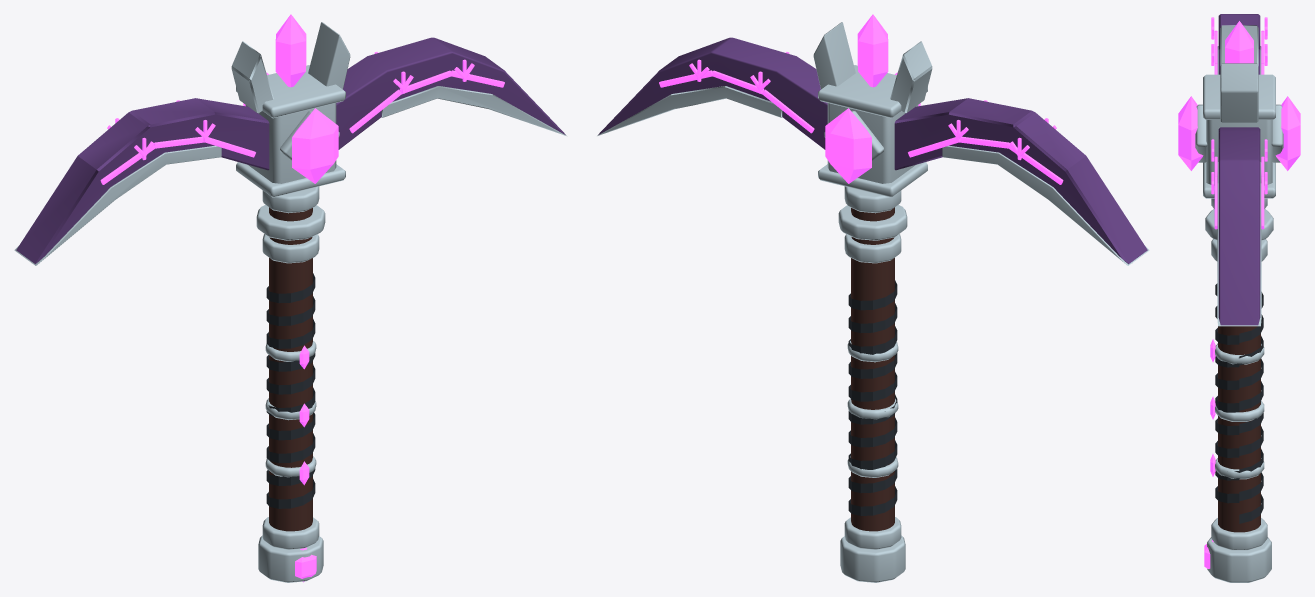
The model's file is runica.fbx.
The picture shows the model from 3 angles, left to right: view 1: azimuth 30°, elevation 25°; view 2: azimuth 150°, elevation 25°; view 3: azimuth 270°, elevation 25°; orthographic projection.
Parts seen in each view (by area): view 1: runica__Steel_edge.001, runica__Amethyst_metal.001, runica__Arcane_violet.001, runica__Leather.001, runica__Blackened_metal.001; view 2: runica__Steel_edge.001, runica__Amethyst_metal.001, runica__Leather.001, runica__Arcane_violet.001, runica__Blackened_metal.001; view 3: runica__Steel_edge.001, runica__Amethyst_metal.001, runica__Arcane_violet.001, runica__Leather.001, runica__Blackened_metal.001.
Part boxes in pixels (<box>): runica__Steel_edge.001: <box>14,22,566,582</box>; runica__Amethyst_metal.001: <box>16,37,565,264</box>; runica__Arcane_violet.001: <box>100,14,504,582</box>; runica__Leather.001: <box>269,207,312,531</box>; runica__Blackened_metal.001: <box>266,273,315,508</box>; runica__Steel_edge.001: <box>597,22,1149,582</box>; runica__Amethyst_metal.001: <box>598,37,1147,264</box>; runica__Leather.001: <box>851,207,894,531</box>; runica__Arcane_violet.001: <box>659,14,1063,184</box>; runica__Blackened_metal.001: <box>848,280,897,515</box>; runica__Steel_edge.001: <box>1195,25,1283,582</box>; runica__Amethyst_metal.001: <box>1218,14,1260,325</box>; runica__Arcane_violet.001: <box>1178,17,1300,568</box>; runica__Leather.001: <box>1218,326,1260,532</box>; runica__Blackened_metal.001: <box>1215,283,1263,523</box>.
Size of the model in its own units: 365 by 367 by 73.59.
